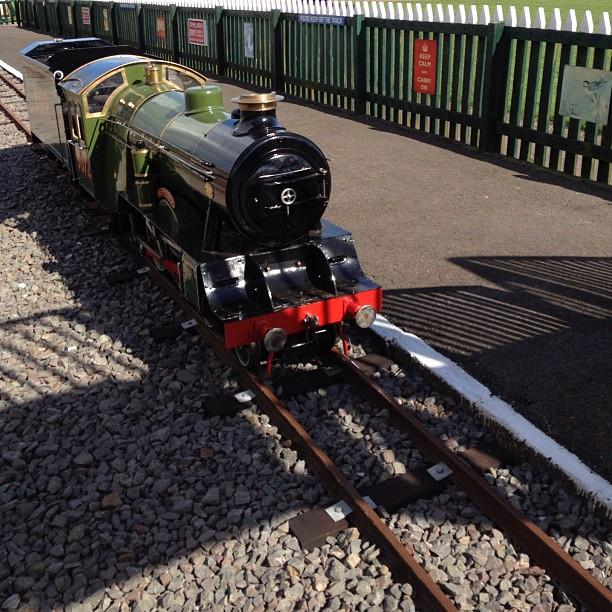Train: (16, 38, 388, 395)
